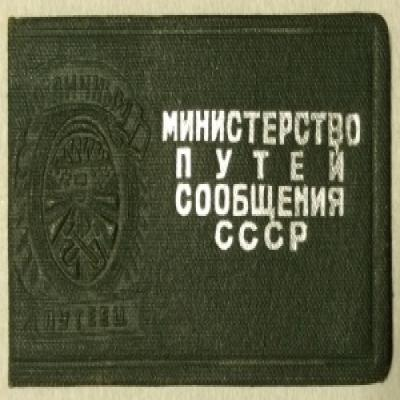document: (7, 15, 394, 386)
